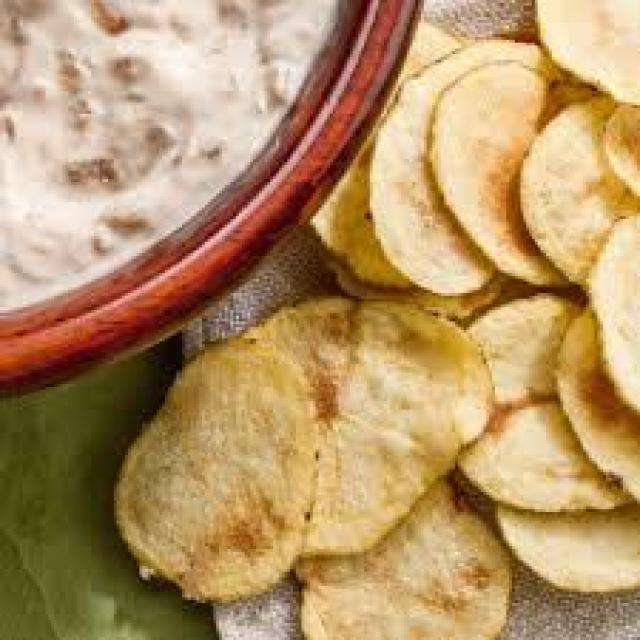Food -Biodegradable-: (112, 0, 640, 640), (2, 0, 339, 311)
